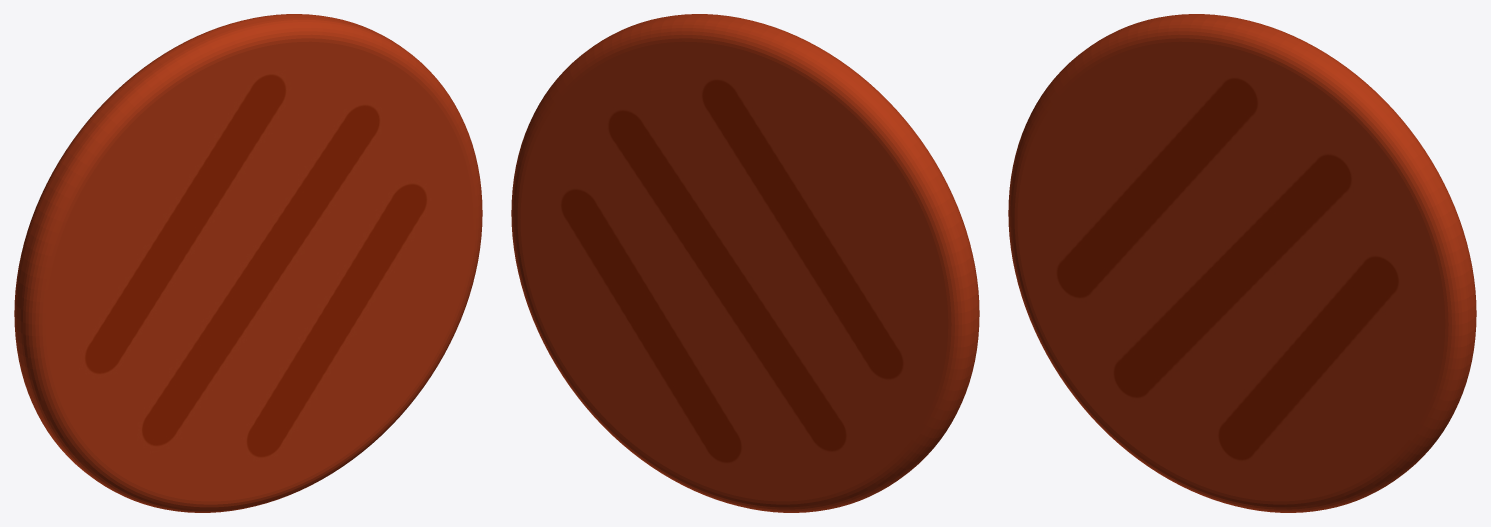
The model's file is patty.fbx.
3 views of the same model, side by side, from view 1: azimuth 30°, elevation 25°; view 2: azimuth 150°, elevation 25°; view 3: azimuth 330°, elevation 25° (orthographic).
Visible parts, largest first — view 1: Cylinder; view 2: Cylinder; view 3: Cylinder.
Boxes of the visible parts, left/top/right/bottom form: Cylinder: left=14, top=14, right=482, bottom=512; Cylinder: left=511, top=14, right=979, bottom=512; Cylinder: left=1008, top=14, right=1476, bottom=512.
Bounding box in the file's own units: 58.49 × 698 × 698.
Materials: 1 (1 with a texture image).
